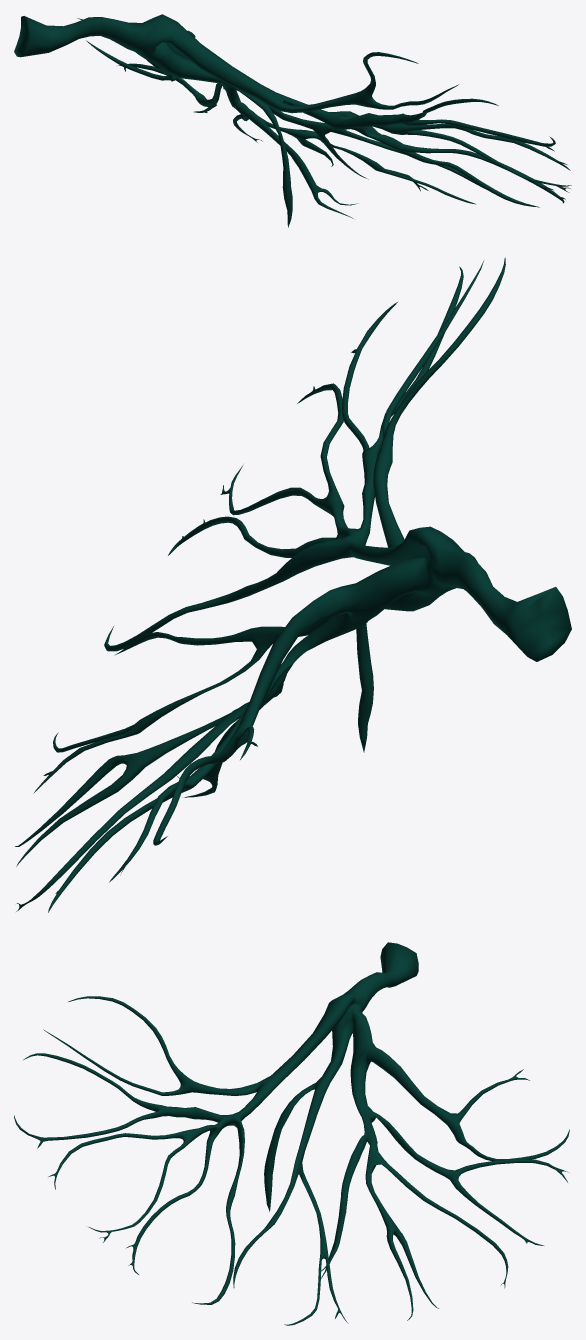
File: Left_Renal_artery_inner.fbx
3 views of the same model, one above another, from view 1: azimuth 30°, elevation 25°; view 2: azimuth 150°, elevation 25°; view 3: azimuth 270°, elevation 25° (orthographic). The views are drawn at different scales.
Parts seen in each view (by area): view 1: Left_Renal_artery_inner; view 2: Left_Renal_artery_inner; view 3: Left_Renal_artery_inner.
Boxes of the visible parts, x1,y1,x2,y2 form: Left_Renal_artery_inner: (14, 14, 571, 227); Left_Renal_artery_inner: (15, 257, 571, 912); Left_Renal_artery_inner: (14, 942, 569, 1325).
Size of the model in its own units: 67.55 by 45.44 by 88.29.
